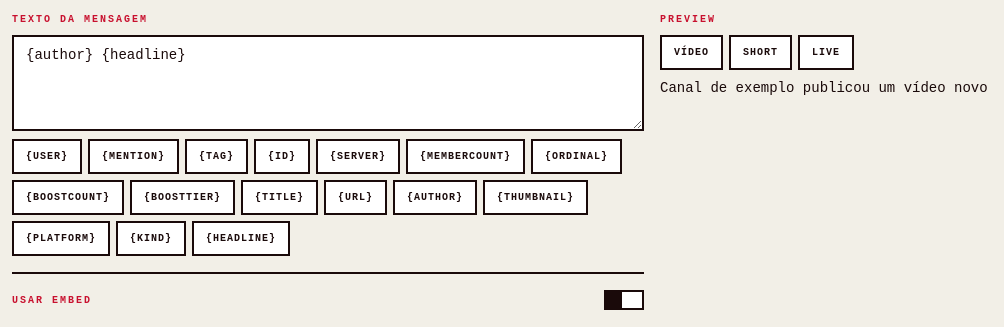
Test: TemplateEditor › troca o preview entre os tipos sem tocar no template
Expected: the text "Canal de exemplo publicou um vídeo novo" is shown, [660,80,988,96]
Click the button "LIVE" at (826, 52), box [798,35,854,70]
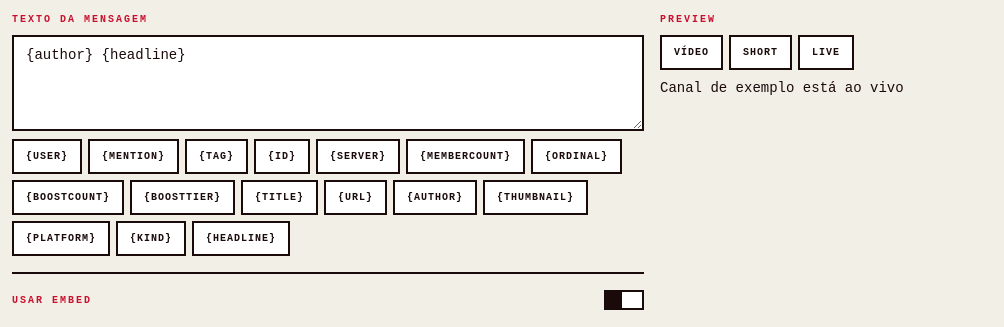
Expected: the text "Canal de exemplo está ao vivo" is shown, [660,80,904,96]
